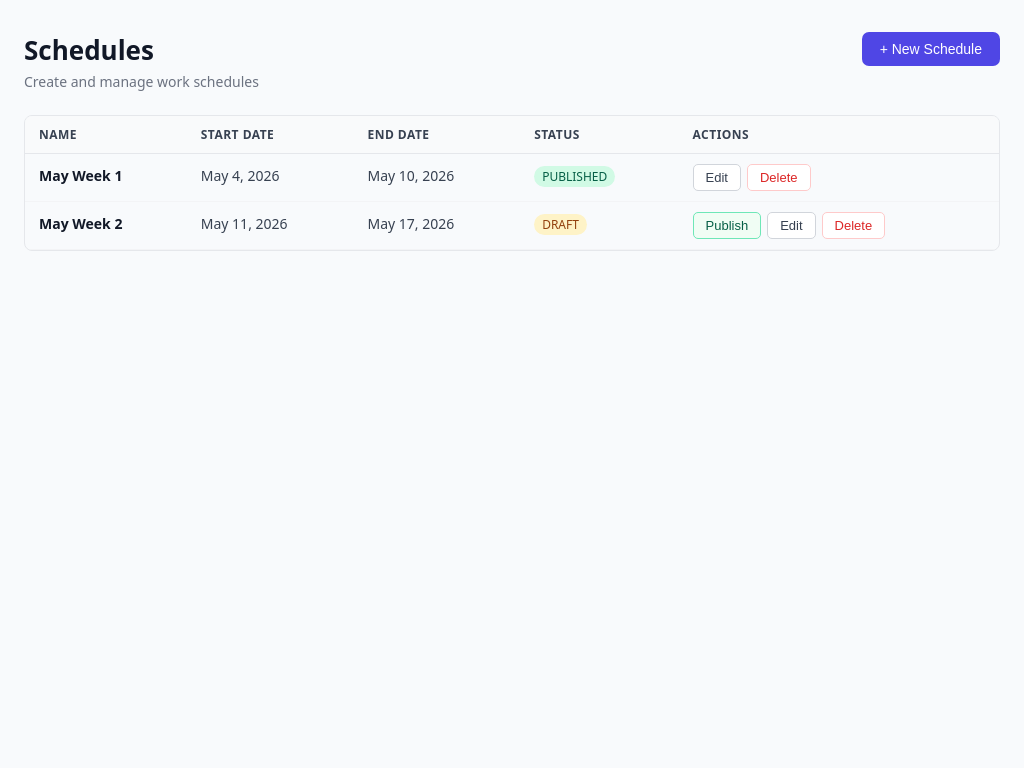
Test: SchedulesPage — create modal › opens the create modal when '+ New Schedule' is clicked
The image size is (1024, 768).
// With schedules loaded, only the header button shows (no empty-state button)
Click the button "+ New Schedule".
click(931, 49)  # box 862,32 -> 1000,66
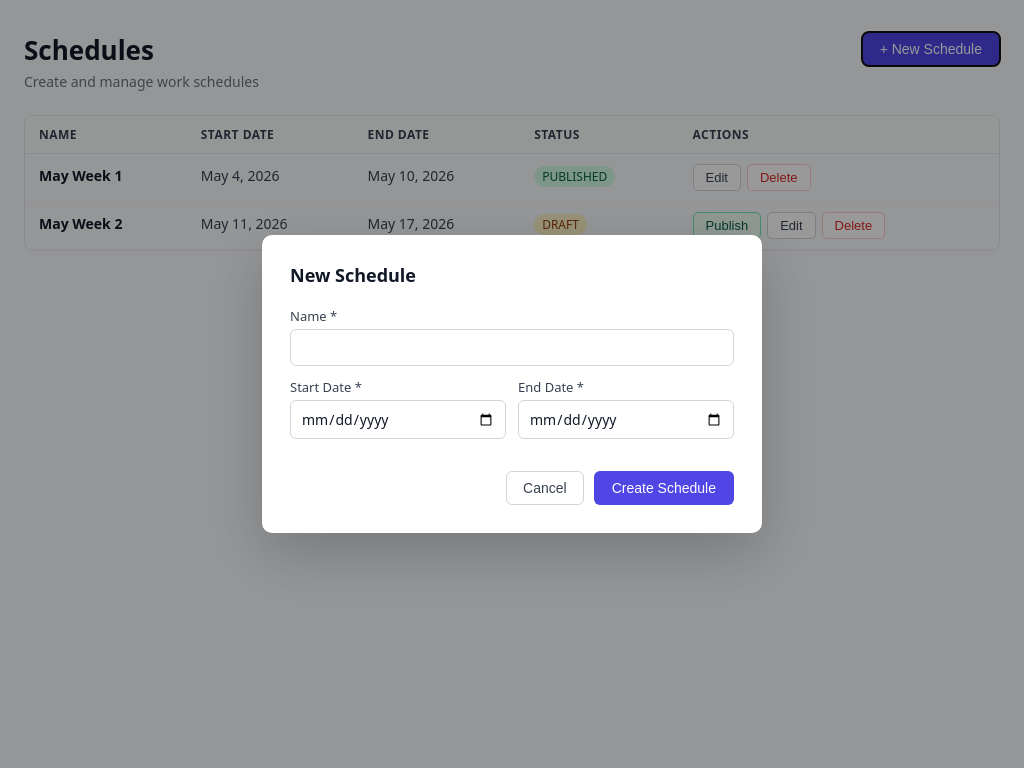
Result: the field labelled "Name *" is shown at 290,329 -> 734,366
Result: the heading "New Schedule" is shown at 290,263 -> 416,287
